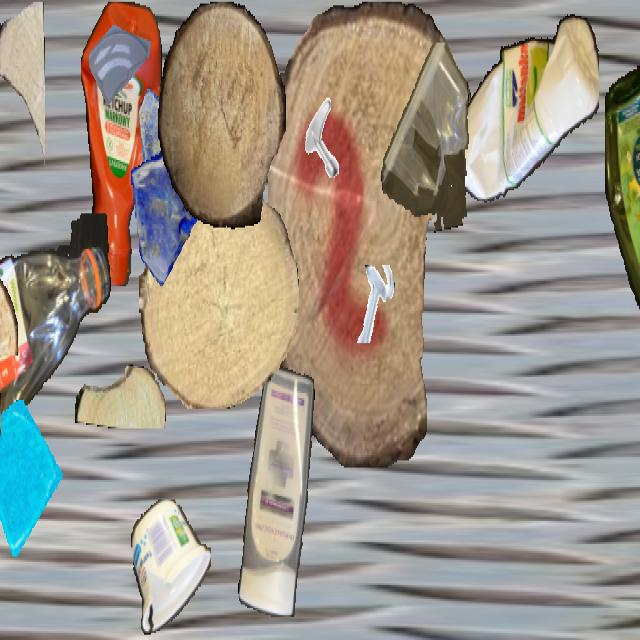glass: (129, 140, 213, 290), (0, 400, 67, 556), (89, 2, 151, 112), (139, 82, 195, 181), (0, 2, 5, 108)
metal: (299, 92, 351, 185), (352, 265, 396, 343)
plastic: (440, 2, 598, 215), (0, 213, 111, 423), (81, 2, 161, 286), (237, 366, 315, 615), (379, 43, 471, 231), (131, 500, 211, 634), (605, 66, 640, 372)
wood: (268, 1, 472, 468), (139, 194, 299, 407), (158, 2, 286, 229), (0, 2, 45, 172), (75, 364, 165, 428), (0, 266, 17, 356)
